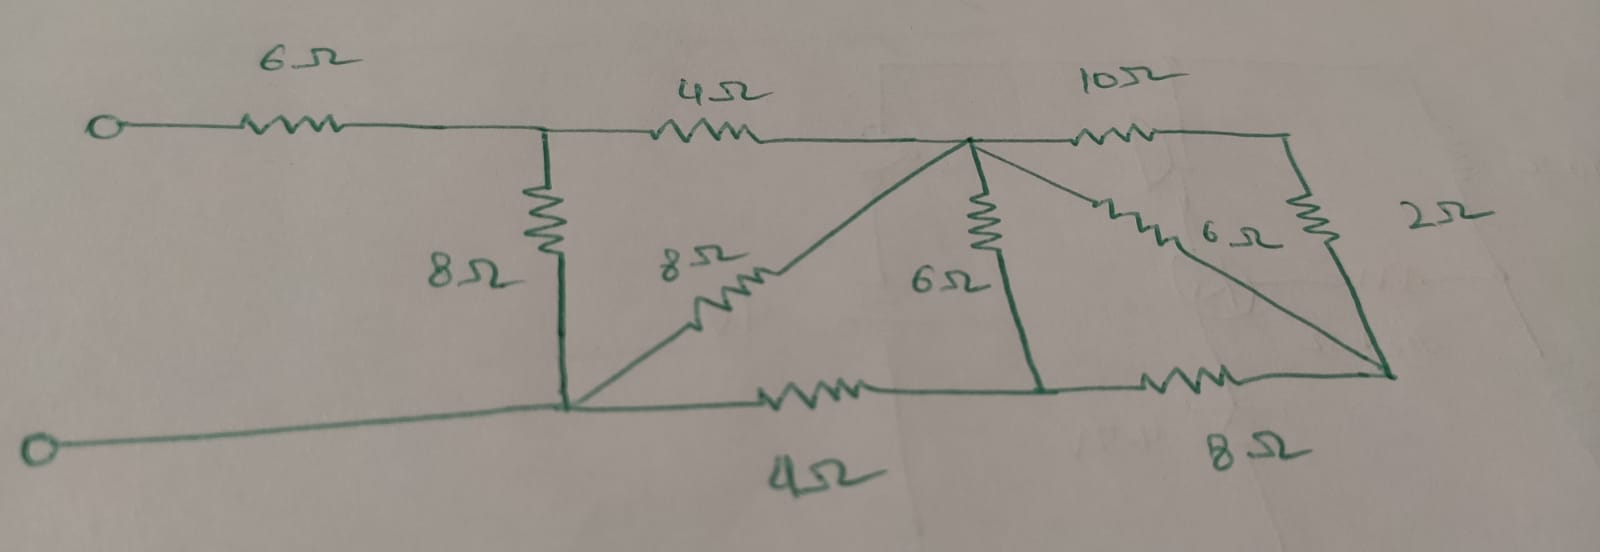junction: (531, 117, 561, 147), (1026, 373, 1053, 401), (554, 390, 580, 417), (957, 131, 984, 151), (1271, 126, 1295, 148), (1378, 366, 1401, 388)
resistor: (1088, 192, 1191, 257), (692, 261, 778, 331), (754, 373, 876, 412), (1133, 359, 1245, 397), (519, 178, 569, 262), (641, 112, 762, 147), (231, 110, 344, 138), (1285, 189, 1340, 245), (1065, 119, 1163, 150), (965, 184, 1006, 257)
terminal: (16, 431, 66, 468), (85, 112, 131, 143)
text: (766, 448, 891, 500), (1204, 426, 1315, 471), (428, 247, 528, 292), (1076, 64, 1191, 94), (661, 242, 747, 281), (1401, 198, 1496, 233), (257, 42, 367, 71), (1200, 215, 1288, 252), (676, 76, 776, 104), (913, 262, 994, 297)
